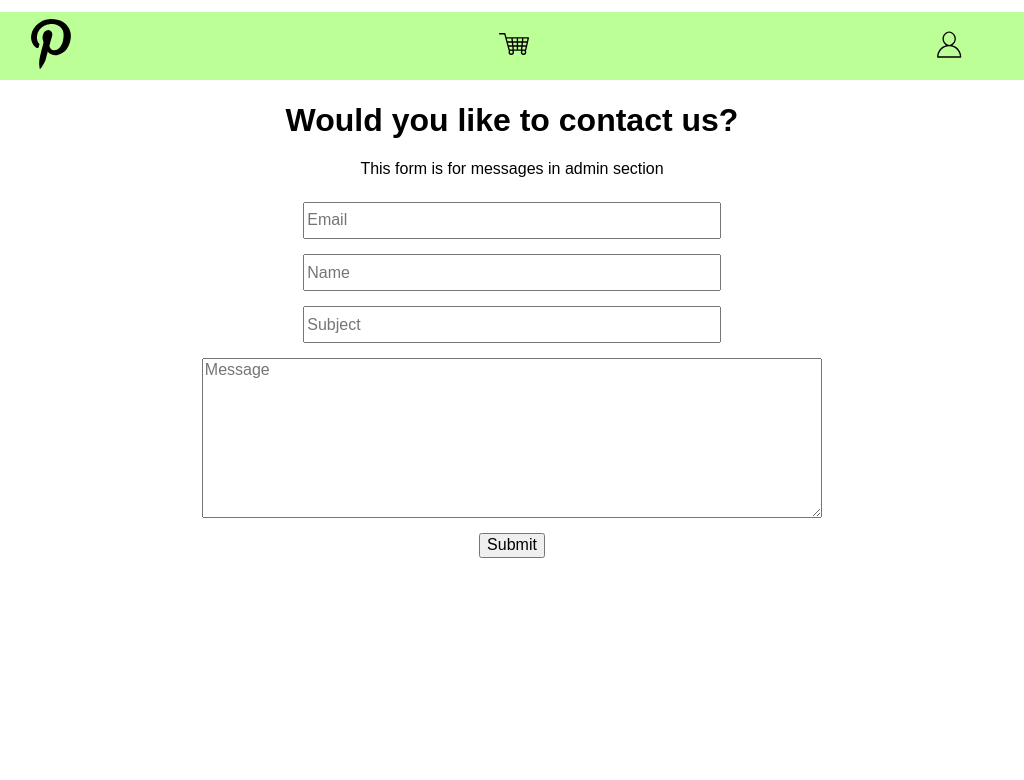
Test case: Contact fields accept input › Subject input is accepted
Click the field with placeholder "Subject". click: click(512, 325)
box: [303,306,721,343]
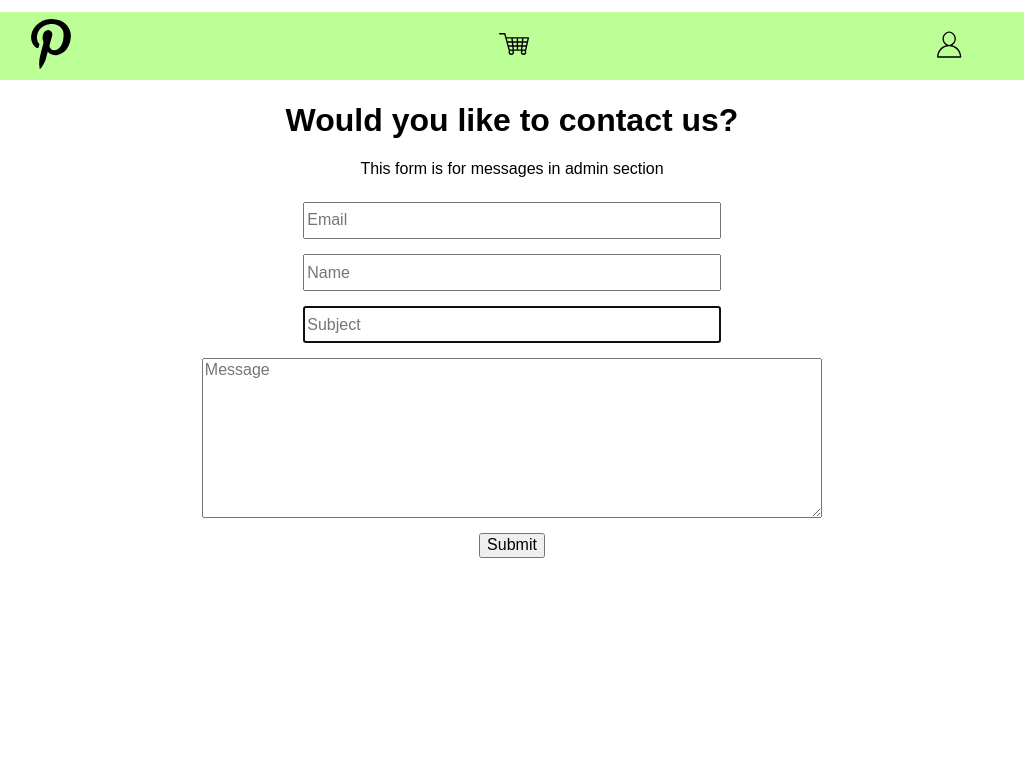
Type keys "test subject 123"
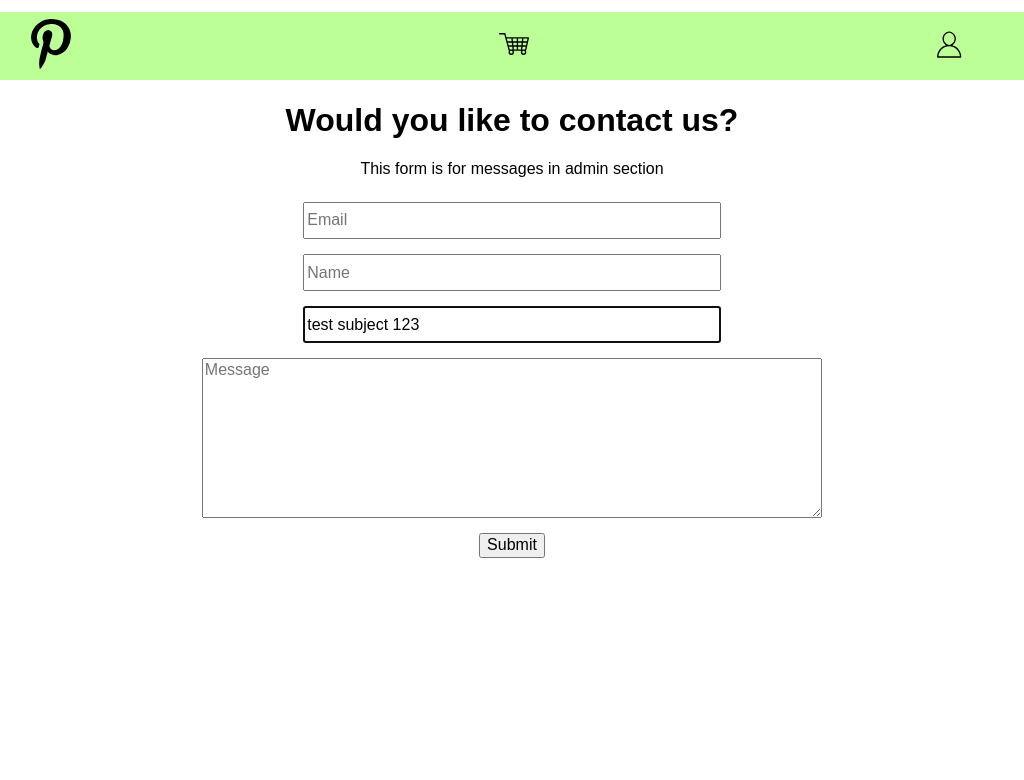
Expected: the field with placeholder "Subject" holds "test subject 123", [303,306,721,343]
